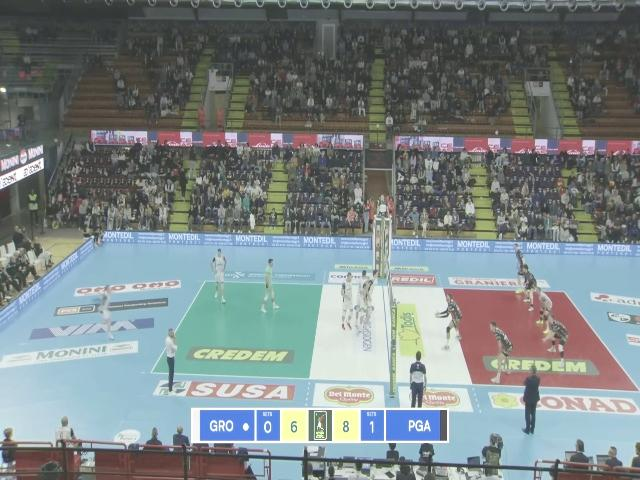volleyball court: (151, 279, 639, 394)
